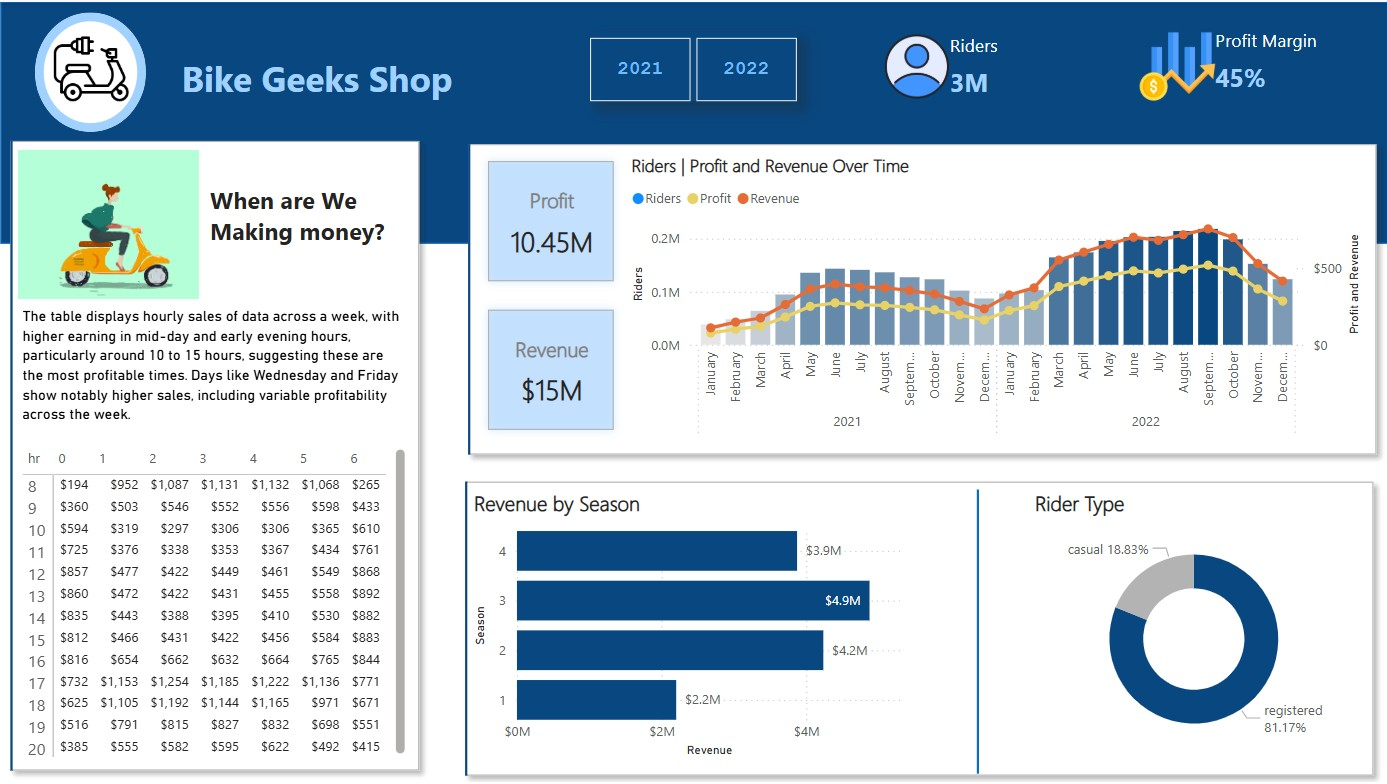

This screenshot's page, from the dashboard's own definition file:
{"tool":"powerbi","page":{"name":"Page 1","canvas":[1280,720],"ordinal":0},"visuals":[{"type":"shape","box":[9.1,0,1270.4,221.1],"z":0},{"type":"cardVisual","fields":{"Data":["Sum(Query1.riders)"]},"box":[1.7,110,408.3,610],"z":1000},{"type":"cardVisual","fields":{"Data":["Sum(Query1.riders)"]},"box":[425,118.3,855,308.3],"z":2000},{"type":"cardVisual","fields":{"Data":["Sum(Query1.riders)"]},"box":[423.3,426.7,855,293.3],"z":3000},{"type":"cardVisual","fields":{"Data":["Sum(Query1.riders)"]},"box":[8.3,118.3,188.3,171.7],"z":4000},{"type":"pivotTable","fields":{"Values":["Avg(Query1.revenue)"],"Rows":["Query1.hr"],"Columns":["Query1.weekday"]},"box":[25,403.3,360,291.7],"z":5000},{"type":"textbox","box":[196.7,160,173.3,90],"z":6000},{"type":"textbox","box":[24.6,272.3,360,118.5],"z":7000},{"type":"lineClusteredColumnComboChart","title":"Riders | Profit and Revenue Over Time","fields":{"Y":["Sum(Query1.riders)"],"Category":["Query1.dteday.Variation.Date Hierarchy.Year","Query1.dteday.Variation.Date Hierarchy.Month","Query1.dteday.Variation.Date Hierarchy.Day"],"Y2":["Avg(Query1.profit)","Avg(Query1.revenue)"]},"box":[581.7,138.3,676.7,266.7],"z":8000},{"type":"clusteredBarChart","title":"Revenue by Season","fields":{"Y":["Sum(Query1.revenue)"],"Category":["Query1.season"]},"box":[438.3,446.7,413.3,248.3],"z":9000},{"type":"donutChart","title":"Rider Type","fields":{"Category":["Query1.rider_type"],"Y":["Sum(Query1.riders)"]},"box":[951.7,446.7,300,248.3],"z":10000},{"type":"shape","box":[880,446.7,48.3,260],"z":11000},{"type":"cardVisual","title":"KPI over Time","fields":{"Data":["Sum(Query1.profit)","Sum(Query1.revenue)"]},"box":[444.6,134.5,137.2,269],"z":12000},{"type":"cardVisual","fields":{"Data":["Sum(Query1.riders)","Query1.Profit_Margin"]},"box":[807.7,0,470.8,118.5],"z":13000},{"type":"shape","box":[41.5,9.2,101.5,109.2],"z":14000},{"type":"image","box":[49.2,13.8,86.2,96.9],"z":15000},{"type":"textbox","box":[170.8,43.1,284.6,60],"z":16000},{"type":"advancedSlicerVisual","fields":{"Values":["Query1.Years"]},"box":[549.2,27.7,189.2,63.1],"z":17000}]}

Visuals, with their boxes in screenshot pixels (x1, y1, x2, y2), scaled from the page's 1280x720 canvas onto the 1387x784 screenshot:
shape: <region>10, 0, 1386, 241</region>
cardVisual - Sum(Query1.riders): <region>2, 120, 444, 783</region>
cardVisual - Sum(Query1.riders): <region>461, 129, 1386, 465</region>
cardVisual - Sum(Query1.riders): <region>459, 465, 1385, 783</region>
cardVisual - Sum(Query1.riders): <region>9, 129, 213, 316</region>
pivotTable - Avg(Query1.revenue) x Query1.hr: <region>27, 439, 417, 757</region>
textbox: <region>213, 174, 401, 272</region>
textbox: <region>27, 297, 417, 426</region>
"Riders | Profit and Revenue Over Time" lineClusteredColumnComboChart: <region>630, 151, 1364, 441</region>
"Revenue by Season" clusteredBarChart: <region>475, 486, 923, 757</region>
"Rider Type" donutChart: <region>1031, 486, 1356, 757</region>
shape: <region>954, 486, 1006, 770</region>
"KPI over Time" cardVisual: <region>482, 146, 630, 439</region>
cardVisual - Sum(Query1.riders) x Query1.Profit_Margin: <region>875, 0, 1385, 129</region>
shape: <region>45, 10, 155, 129</region>
image: <region>53, 15, 147, 121</region>
textbox: <region>185, 47, 493, 112</region>
advancedSlicerVisual - Query1.Years: <region>595, 30, 800, 99</region>
